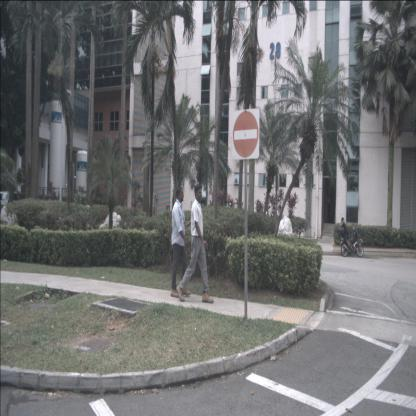human-pedestrian-adult: (176, 184, 214, 303), (170, 187, 192, 298), (339, 217, 347, 250)
vehicle-motorcycle: (336, 227, 364, 257)
